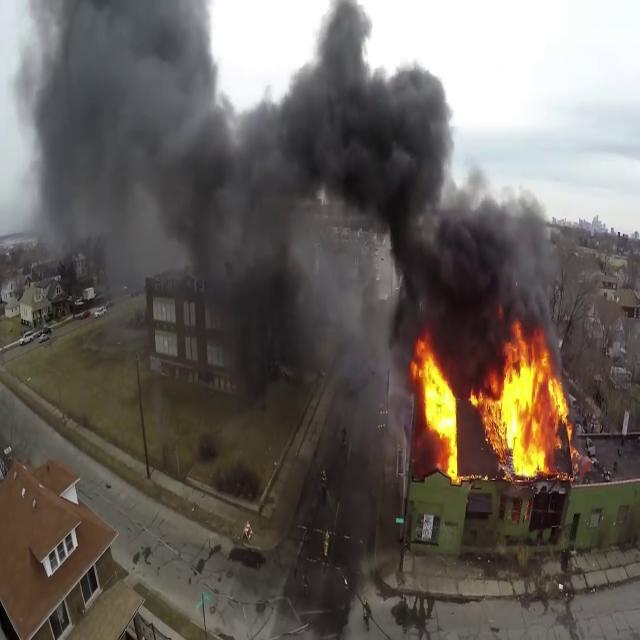Fire: (476, 323, 576, 490), (409, 336, 461, 479)
Smoke: (188, 2, 554, 378), (21, 0, 222, 283)
